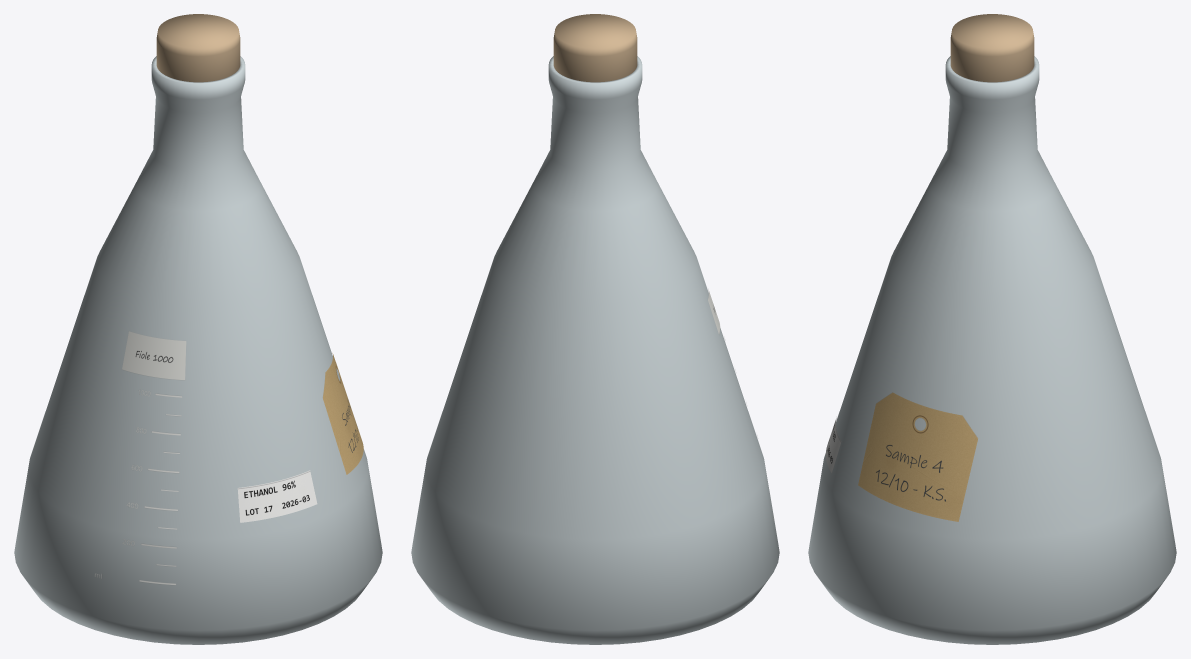
The model's file is flask_lab_low.glb.
3 views of the same model, side by side, from view 1: azimuth 30°, elevation 25°; view 2: azimuth 150°, elevation 25°; view 3: azimuth 270°, elevation 25° (orthographic).
Visible parts, largest first — view 1: Glass, Labels, Cap; view 2: Glass, Cap; view 3: Glass, Labels, Cap.
Part boxes in pixels (<box>): Glass: <box>14,56,382,644</box>; Labels: <box>94,331,363,585</box>; Cap: <box>156,14,240,82</box>; Glass: <box>411,56,779,644</box>; Cap: <box>553,14,637,82</box>; Glass: <box>808,56,1176,644</box>; Labels: <box>825,392,978,521</box>; Cap: <box>950,14,1034,82</box>.
Size of the model in its own units: 0.13 by 0.215 by 0.13.
4 materials, 1 textured.
